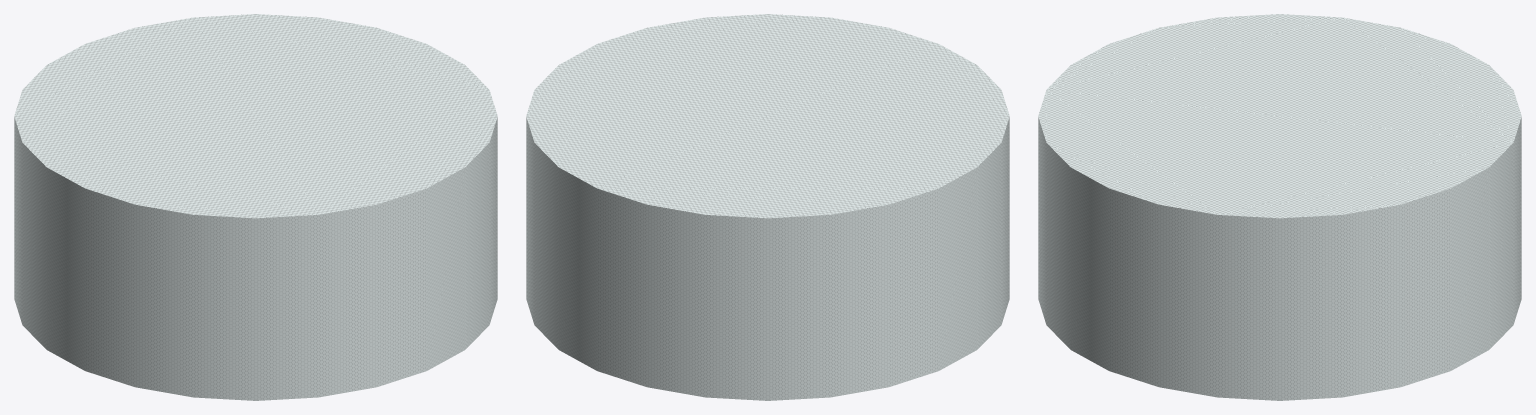
The model's file is stage.FBX.
3 renders of one model, left to right at view 1: azimuth 30°, elevation 25°; view 2: azimuth 150°, elevation 25°; view 3: azimuth 270°, elevation 25°, orthographic.
Visible parts, largest first — view 1: Wall; view 2: Wall; view 3: Wall.
Part boxes in pixels (left/top/right/bottom): Wall: left=14, top=14, right=497, bottom=400; Wall: left=526, top=14, right=1009, bottom=400; Wall: left=1038, top=14, right=1521, bottom=400.
Size of the model in its own units: 12000 by 5000 by 12000.
9 materials, 9 textured.
